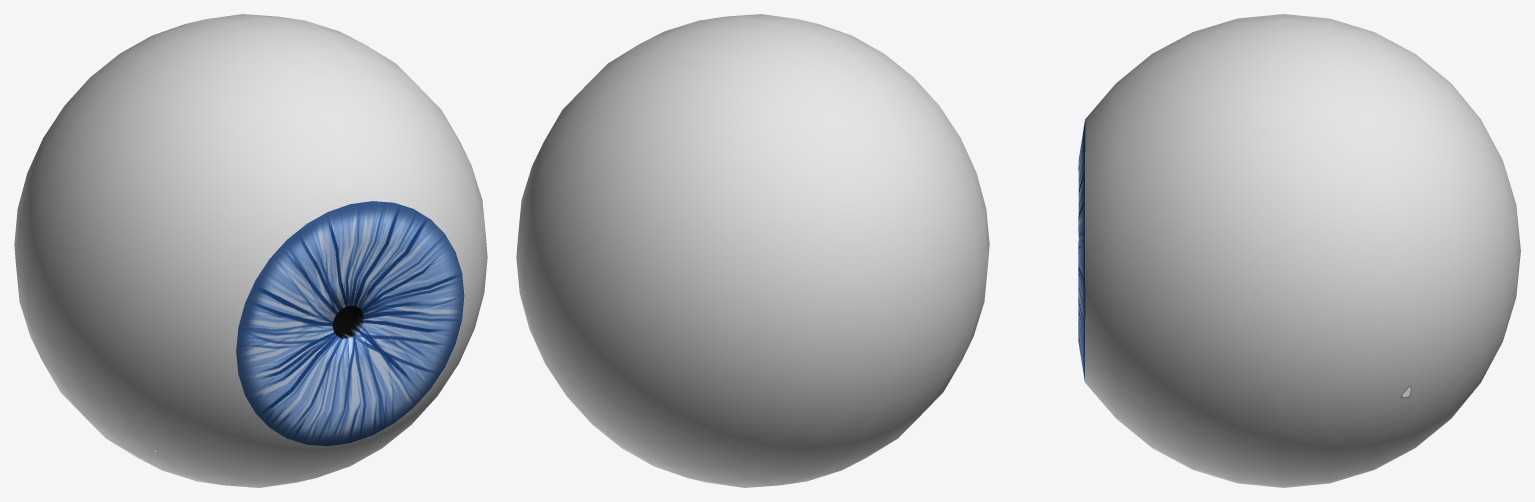
Rendered from eye.glb.
3 renders of one model, left to right at view 1: azimuth 30°, elevation 25°; view 2: azimuth 150°, elevation 25°; view 3: azimuth 270°, elevation 25°, orthographic.
Visible parts, largest first — view 1: Sphere; view 2: Sphere; view 3: Sphere.
Boxes of the visible parts, <box> form: Sphere: <box>14,14,487,487</box>; Sphere: <box>516,14,989,487</box>; Sphere: <box>1078,14,1520,487</box>.
Size of the model in its own units: 2 by 2 by 2.12.
1 material, 1 textured.
